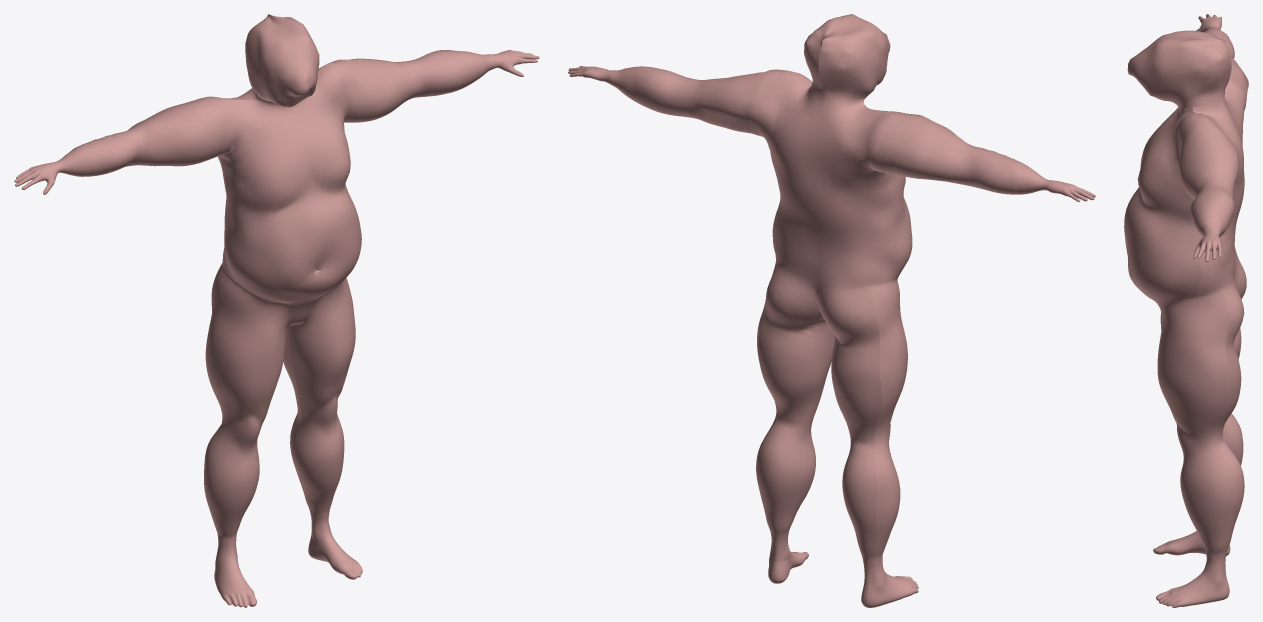
The model's file is boob.gltf.
3 renders of one model, left to right at view 1: azimuth 30°, elevation 25°; view 2: azimuth 150°, elevation 25°; view 3: azimuth 270°, elevation 25°, orthographic. The views are drawn at different scales.
Visible parts, largest first — view 1: Object_2; view 2: Object_2; view 3: Object_2.
Boxes of the visible parts, x1,y1,x2,y2 form: Object_2: [14, 14, 539, 607]; Object_2: [568, 14, 1095, 607]; Object_2: [1124, 14, 1248, 607].
Size of the model in its own units: 19.68 by 20.02 by 4.19.
